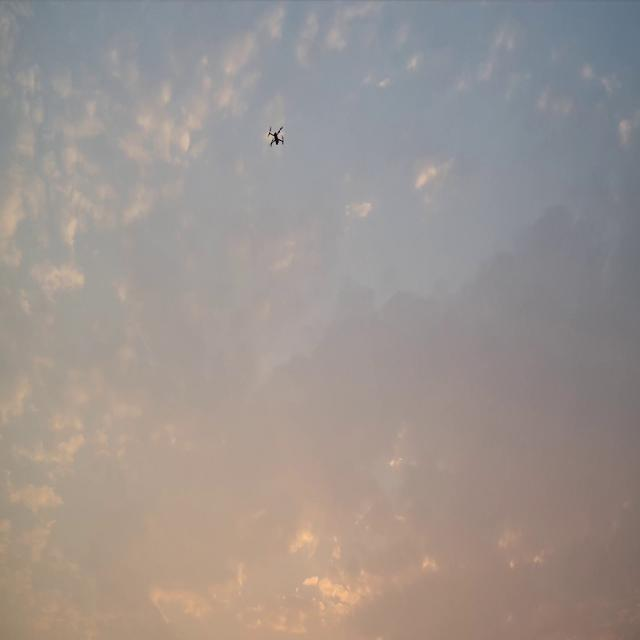drone: (267, 125, 284, 146)
